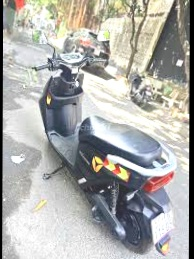Bien-so: (151, 208, 175, 246)
